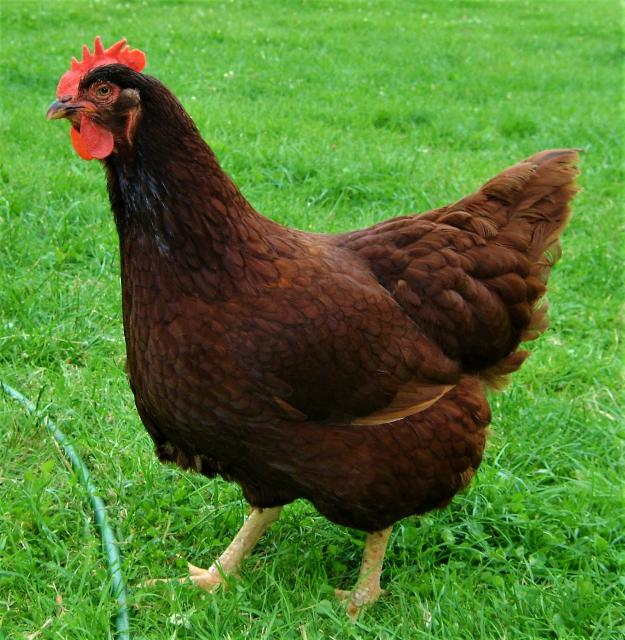Chicken: (45, 35, 581, 605)
